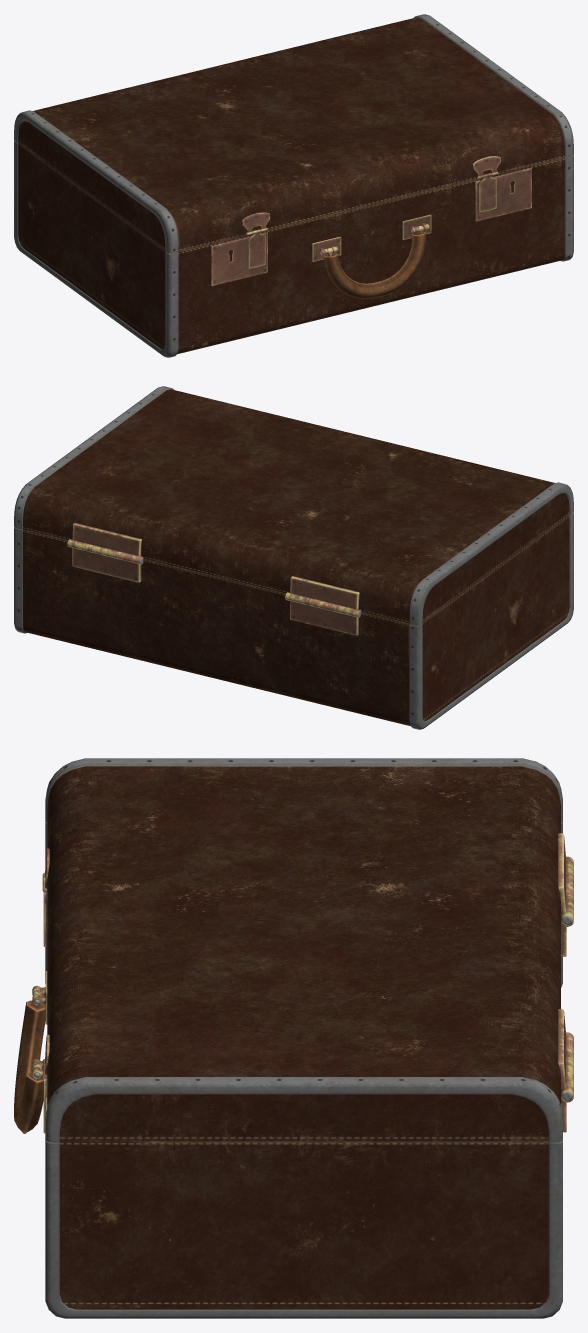
The model's file is suitcase.fbx.
3 views of the same model, one above another, from view 1: azimuth 30°, elevation 25°; view 2: azimuth 150°, elevation 25°; view 3: azimuth 270°, elevation 25° (orthographic). The views are drawn at different scales.
Parts seen in each view (by area): view 1: Old suitcase ver04; view 2: Old suitcase ver04; view 3: Old suitcase ver04.
Part boxes in pixels (x1,y1,x2,y2): Old suitcase ver04: [14, 14, 573, 357]; Old suitcase ver04: [14, 386, 573, 729]; Old suitcase ver04: [14, 758, 573, 1318].
Size of the model in its own units: 44.41 by 14.93 by 32.07.
Materials: 1 (1 with a texture image).
